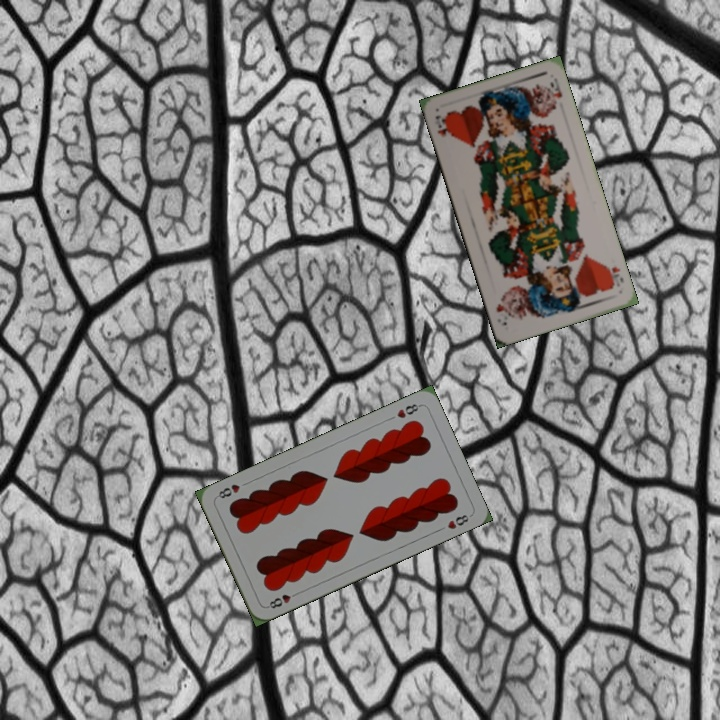H8: (263, 588, 301, 611), (393, 400, 424, 421)
HO: (601, 261, 626, 291), (430, 111, 454, 140)
